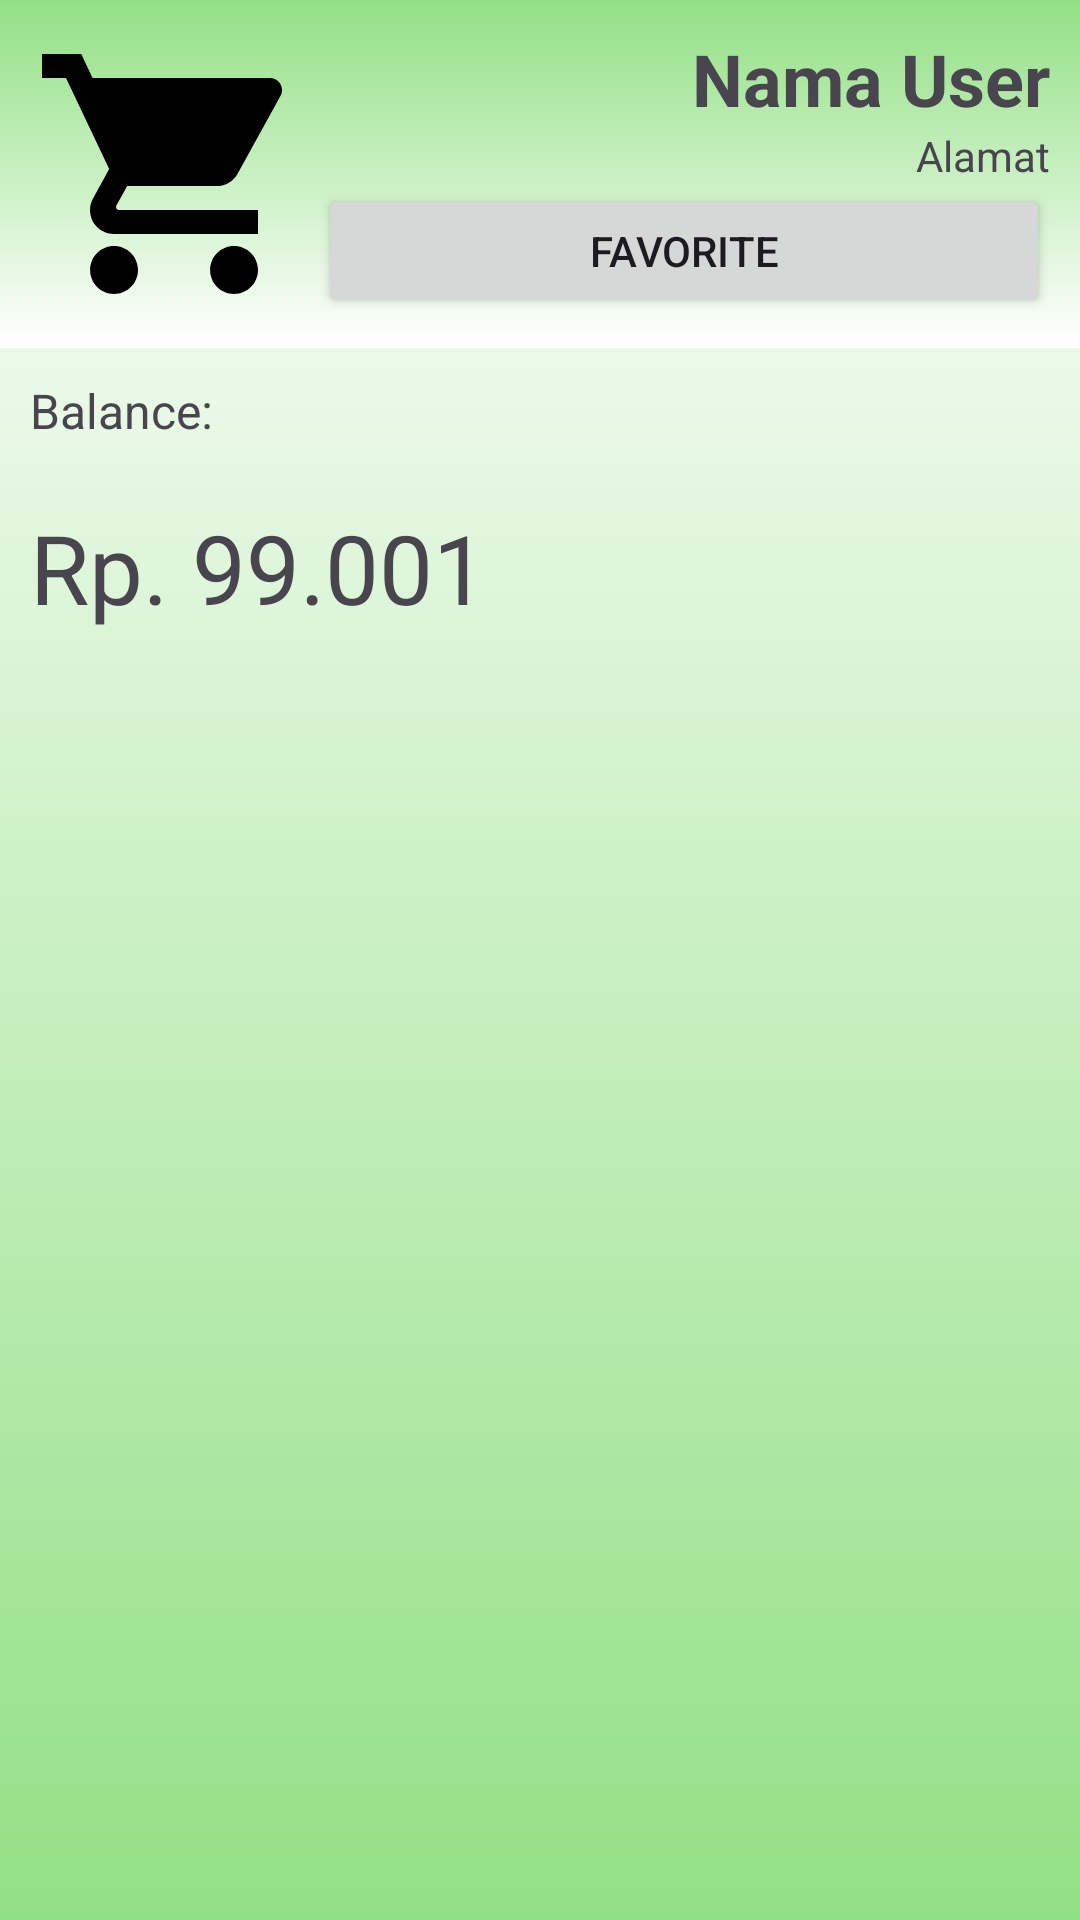

Screen size 1080w x 1920h. Icon name, then its center in pixels as point (x, y):
shopping cart: point (174, 174)
